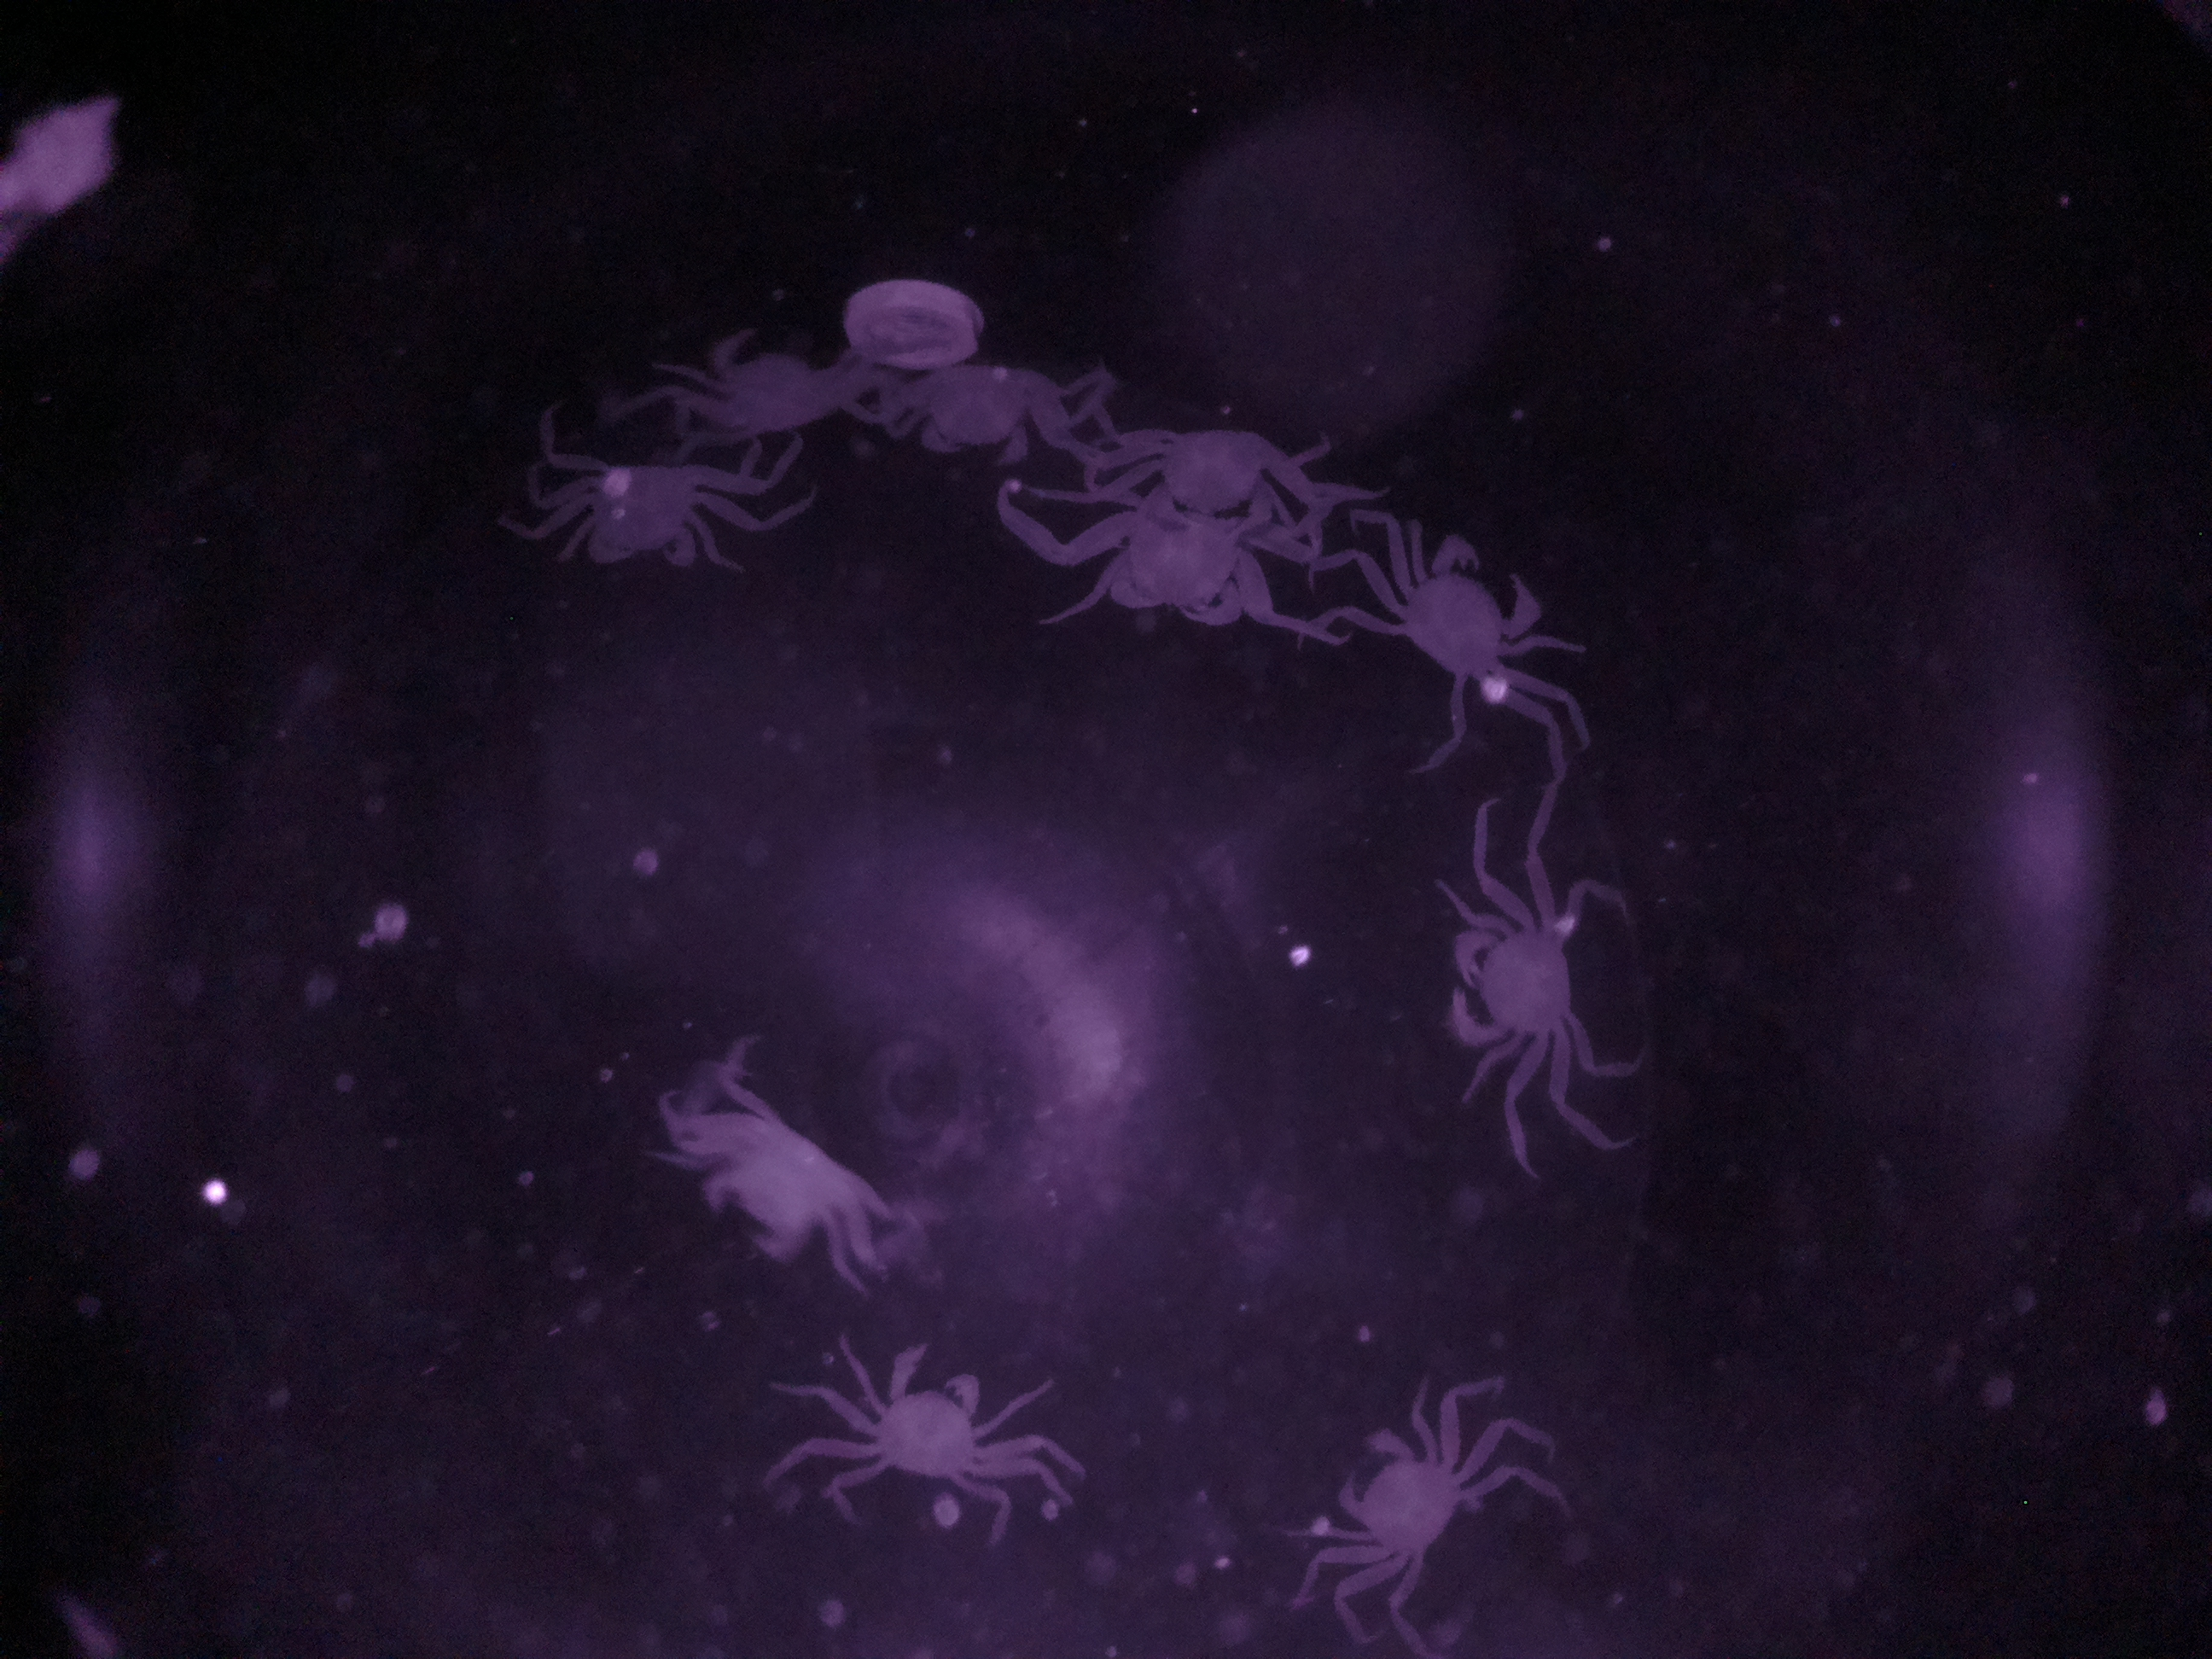Crab: (1437, 857, 1604, 1094), (1299, 1408, 1498, 1607), (846, 1314, 1019, 1521), (1388, 505, 1548, 714), (554, 453, 763, 591)
